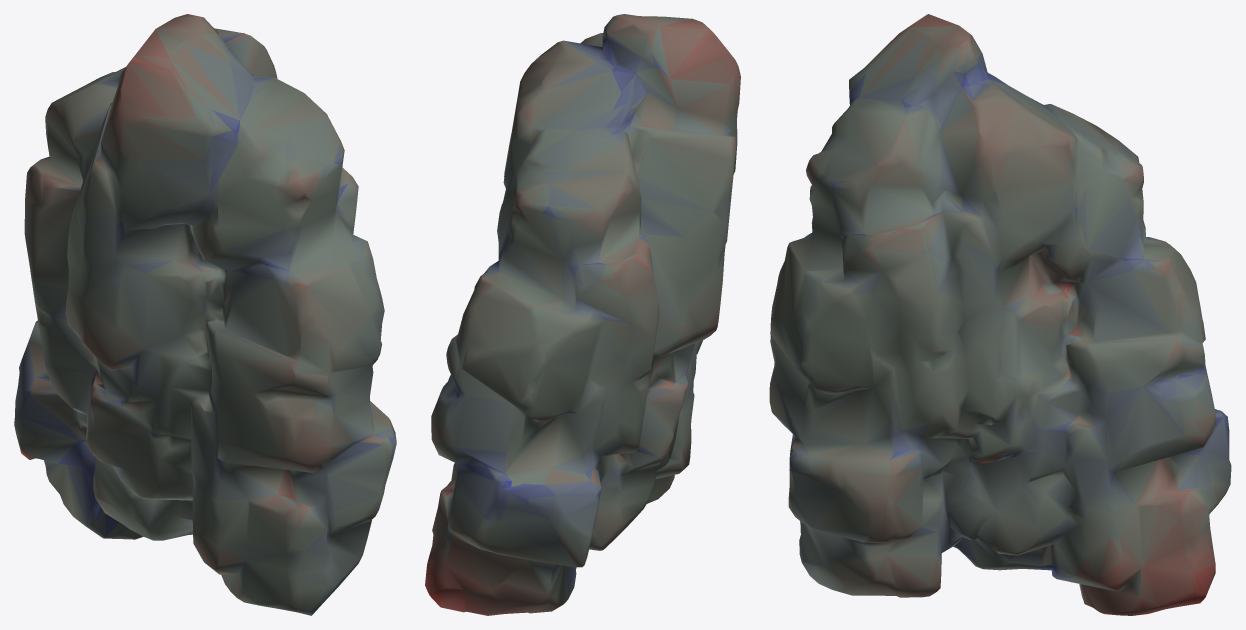
File: rock_cliff_01.fbx
The picture shows the model from 3 angles, left to right: view 1: azimuth 30°, elevation 25°; view 2: azimuth 150°, elevation 25°; view 3: azimuth 270°, elevation 25°; orthographic projection. The views are drawn at different scales.
Parts seen in each view (by area): view 1: Rock_Cliff_Simple_01; view 2: Rock_Cliff_Simple_01; view 3: Rock_Cliff_Simple_01.
Part boxes in pixels (x1,y1,x2,y2): Rock_Cliff_Simple_01: [14, 14, 396, 615]; Rock_Cliff_Simple_01: [425, 14, 740, 615]; Rock_Cliff_Simple_01: [769, 14, 1231, 615].
Size of the model in its own units: 424 by 898 by 687.
